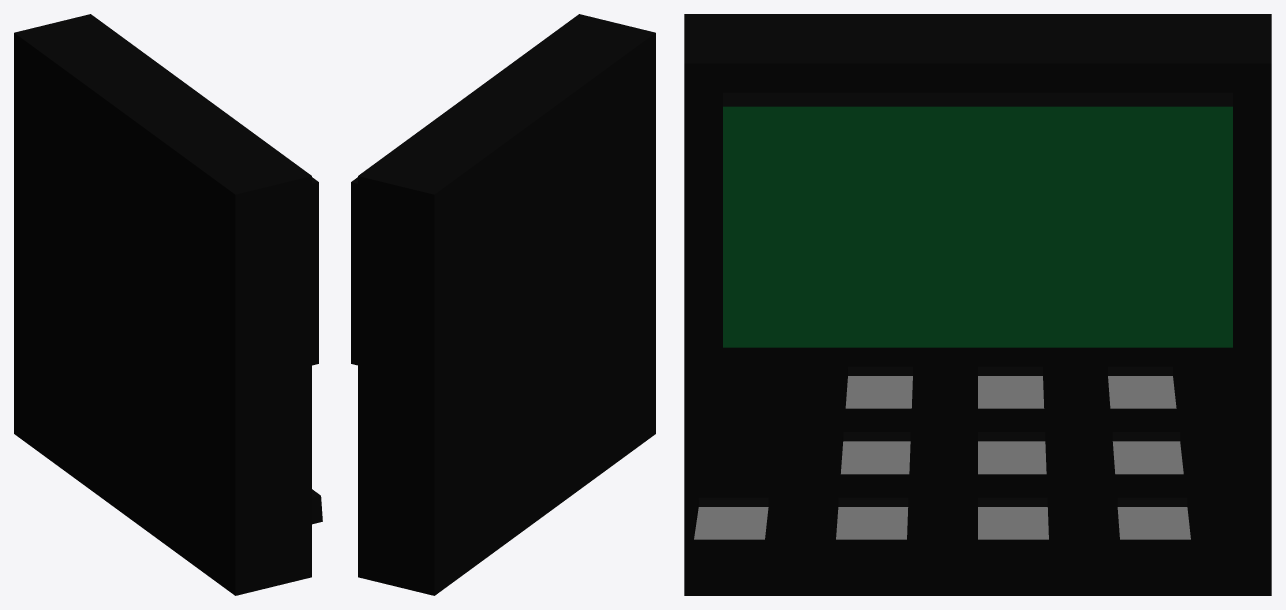
The model's file is Numpad.fbx.
The picture shows the model from 3 angles, left to right: view 1: azimuth 30°, elevation 25°; view 2: azimuth 150°, elevation 25°; view 3: azimuth 270°, elevation 25°; orthographic projection. The views are drawn at different scales.
Visible parts, largest first — view 1: Cube; view 2: Cube; view 3: Cube.
Part boxes in pixels (x1,y1,x2,y2): Cube: (14,14,322,595); Cube: (351,14,655,595); Cube: (684,14,1271,595).
Size of the model in its own units: 12.79 by 50 by 50.
